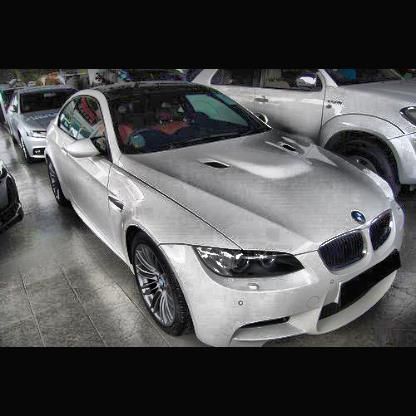BMW M3 Coupe 2012: (49, 83, 404, 347)
